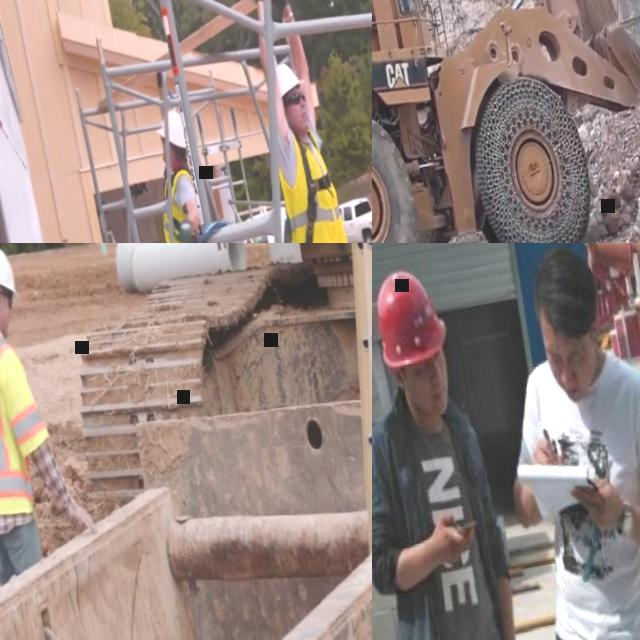helmet: (372, 260, 455, 370), (153, 106, 187, 152), (0, 243, 21, 299), (276, 58, 306, 96)
machinery: (43, 243, 372, 515), (372, 0, 640, 243)
no_helmet: (527, 243, 603, 341)
no_mask: (404, 368, 456, 413), (548, 354, 594, 392), (290, 104, 312, 132), (0, 305, 15, 336), (161, 144, 168, 160)
no_vest: (517, 347, 640, 640), (372, 402, 517, 640)
person: (372, 254, 552, 640), (474, 243, 640, 640), (0, 243, 107, 585), (230, 0, 372, 243), (138, 63, 252, 243), (397, 0, 407, 14)
vehicle: (237, 203, 303, 243), (339, 189, 372, 243)
vest: (0, 324, 59, 509), (273, 125, 360, 243), (154, 164, 210, 243)
